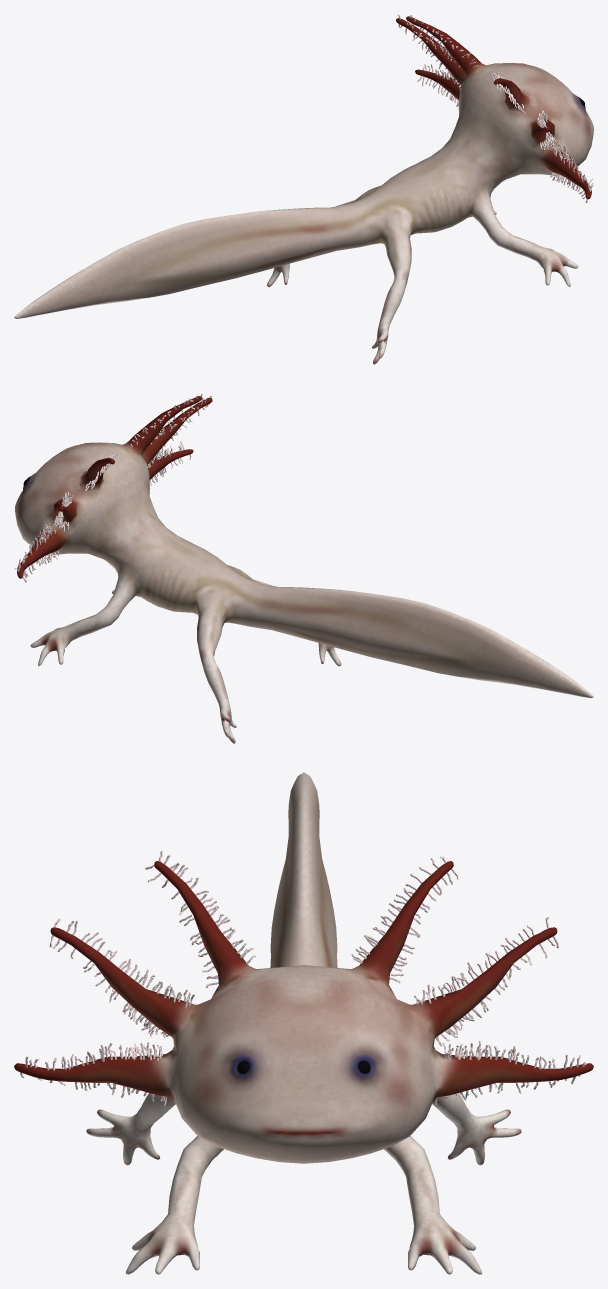
The model's file is axolotl.glb.
The picture shows the model from 3 angles, top to bottom: view 1: azimuth 30°, elevation 25°; view 2: azimuth 150°, elevation 25°; view 3: azimuth 270°, elevation 25°; orthographic projection. The views are drawn at different scales.
Parts seen in each view (by area): view 1: axl_low, Curves; view 2: axl_low, Curves; view 3: axl_low, Curves.
Boxes of the visible parts, bbox=[...] form: axl_low: bbox=[14, 16, 593, 364]; Curves: bbox=[397, 14, 593, 202]; axl_low: bbox=[15, 396, 593, 743]; Curves: bbox=[14, 393, 211, 582]; axl_low: bbox=[14, 772, 593, 1274]; Curves: bbox=[20, 851, 586, 1106].
Size of the model in its own units: 0.4859 by 0.2039 by 0.2564.
2 materials, 1 textured.
